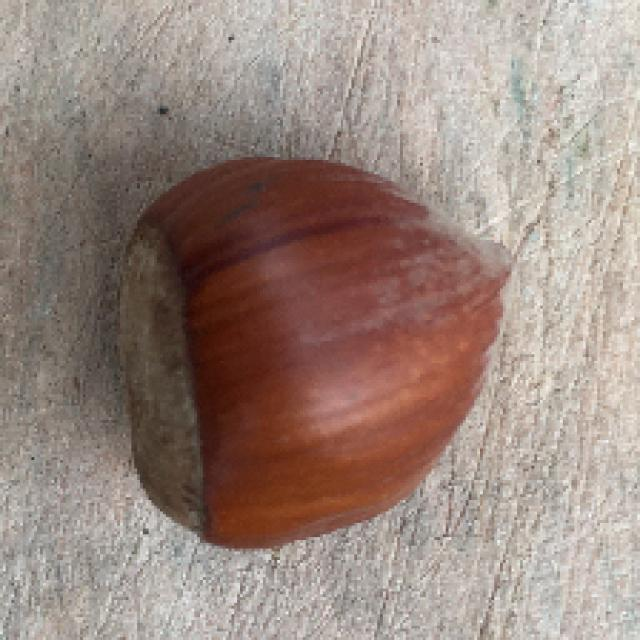QualityHazelnut: (117, 155, 517, 554)
